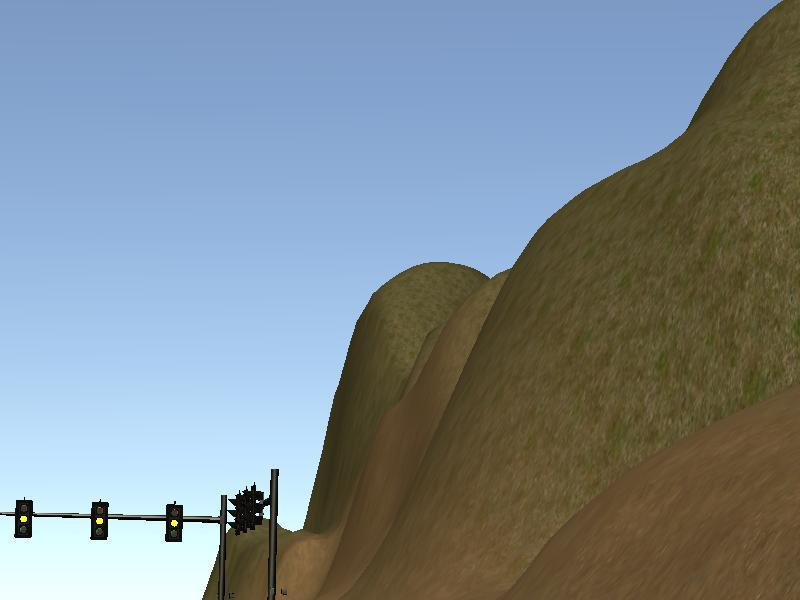Yellow: (90, 502, 108, 540), (14, 500, 32, 538), (164, 504, 182, 542)
